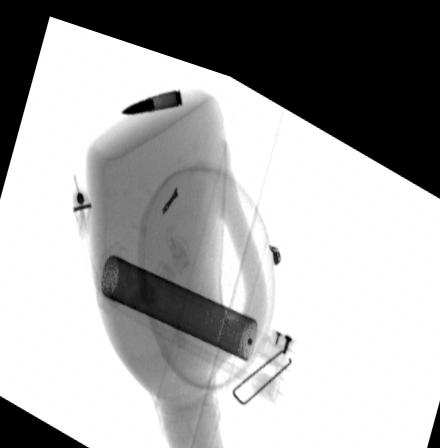Bullet: (115, 77, 181, 107)
